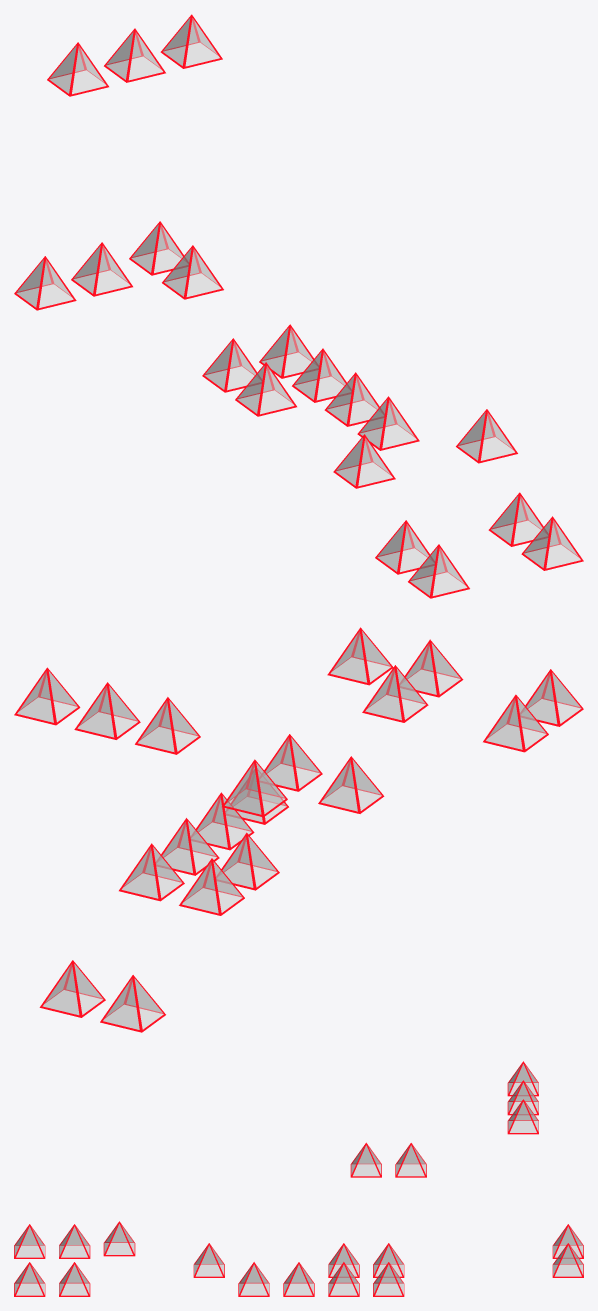
File: EL Spike.fbx
The picture shows the model from 3 angles, top to bottom: view 1: azimuth 30°, elevation 25°; view 2: azimuth 150°, elevation 25°; view 3: azimuth 270°, elevation 25°; orthographic projection. The views are drawn at different scales.
Visible parts, largest first — view 1: Spike..013, Spike..038, Spike..039, Spike..001, Spike..011, Spike..015, Spike..002, Spike..005, Spike..016, Spike..018, Spike..017, Spike..007 (+7 smaller); view 2: Spike..005, Spike..004, Spike..015, Spike..017, Spike..003, Spike..010, Spike..012, Spike..016, Spike..018, Spike..038, Spike..039, Spike..014 (+7 smaller); view 3: Spike..005, Spike..017, Spike..013, Spike..014, Spike..002, Spike..010, Spike..004, Spike..008, Spike..039, Spike..007, Spike..009, Spike..018 (+7 smaller).
Boxes of the visible parts, <box> form: Spike..013: <box>162,245,223,299</box>; Spike..038: <box>14,256,76,310</box>; Spike..039: <box>333,434,395,488</box>; Spike..001: <box>408,544,469,598</box>; Spike..011: <box>235,362,296,416</box>; Spike..015: <box>47,42,108,96</box>; Spike..002: <box>521,516,583,570</box>; Spike..005: <box>456,409,517,463</box>; Spike..016: <box>104,28,165,82</box>; Spike..018: <box>71,242,132,296</box>; Spike..017: <box>160,14,222,68</box>; Spike..007: <box>357,396,419,450</box>; Spike..005: <box>327,627,393,685</box>; Spike..004: <box>362,665,428,722</box>; Spike..015: <box>135,697,200,754</box>; Spike..017: <box>14,667,80,725</box>; Spike..003: <box>483,694,548,752</box>; Spike..010: <box>119,843,184,901</box>; Spike..012: <box>179,858,244,915</box>; Spike..016: <box>74,682,140,739</box>; Spike..018: <box>39,960,105,1017</box>; Spike..038: <box>100,975,165,1032</box>; Spike..039: <box>318,756,384,813</box>; Spike..014: <box>222,759,287,817</box>; Spike..005: <box>103,1221,135,1256</box>; Spike..017: <box>507,1099,538,1134</box>; Spike..013: <box>350,1142,381,1177</box>; Spike..014: <box>395,1143,426,1177</box>; Spike..002: <box>14,1262,45,1296</box>; Spike..010: <box>373,1262,404,1296</box>; Spike..004: <box>59,1262,90,1296</box>; Spike..008: <box>283,1262,314,1296</box>; Spike..039: <box>193,1243,224,1277</box>; Spike..007: <box>238,1262,269,1296</box>; Spike..009: <box>328,1262,359,1296</box>; Spike..018: <box>552,1243,583,1277</box>.
Bounding box in the file's own units: 540 × 940 × 2540.
